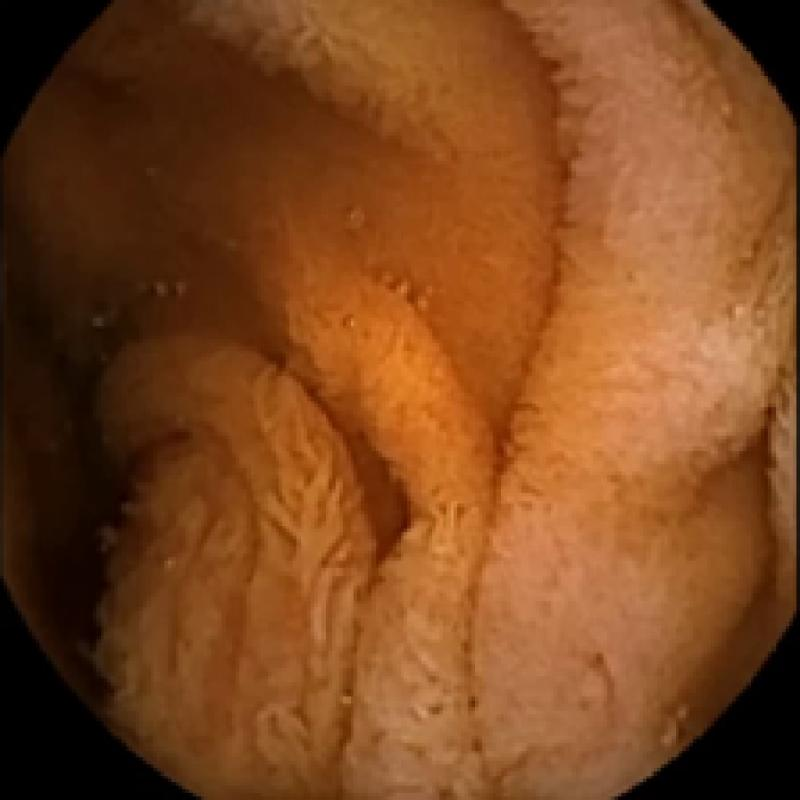bleeding: (32, 343, 154, 696)
